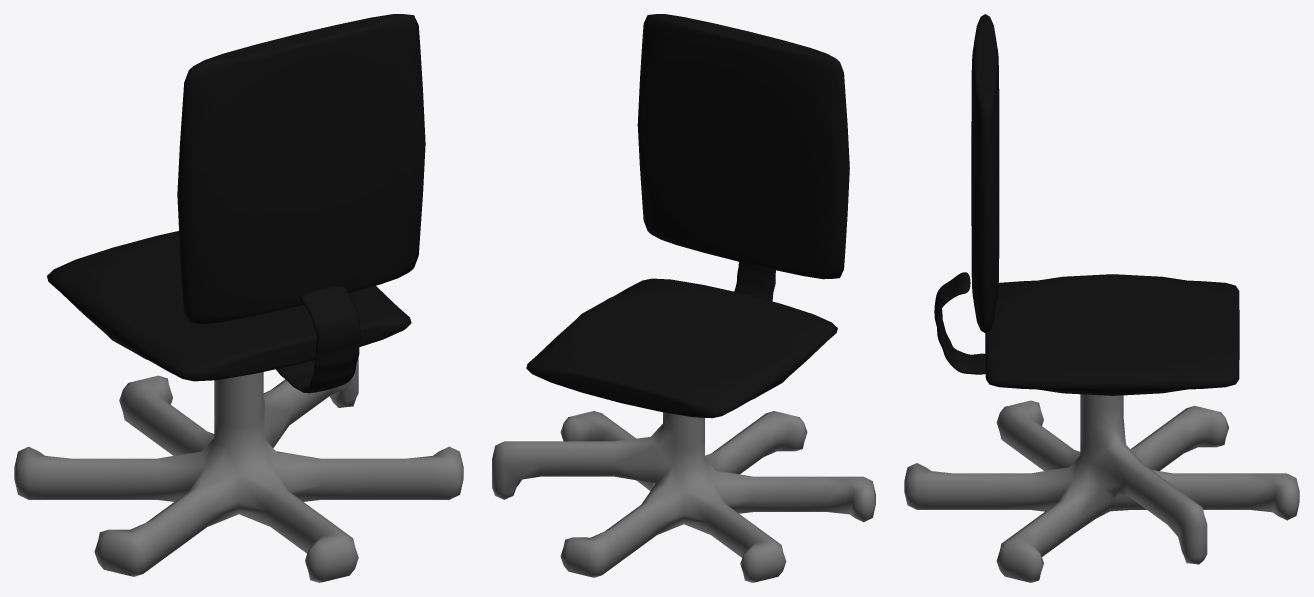
The model's file is Chair.FBX.
The picture shows the model from 3 angles, left to right: view 1: azimuth 30°, elevation 25°; view 2: azimuth 150°, elevation 25°; view 3: azimuth 270°, elevation 25°; orthographic projection. The views are drawn at different scales.
Visible parts, largest first — view 1: Desk Chair; view 2: Desk Chair; view 3: Desk Chair.
Part boxes in pixels (bbox=[...]): Desk Chair: bbox=[14, 14, 463, 582]; Desk Chair: bbox=[492, 14, 875, 582]; Desk Chair: bbox=[904, 14, 1299, 582].
Bounding box in the file's own units: 29.1 × 38.87 × 30.97.
Materials: 1 (1 with a texture image).
